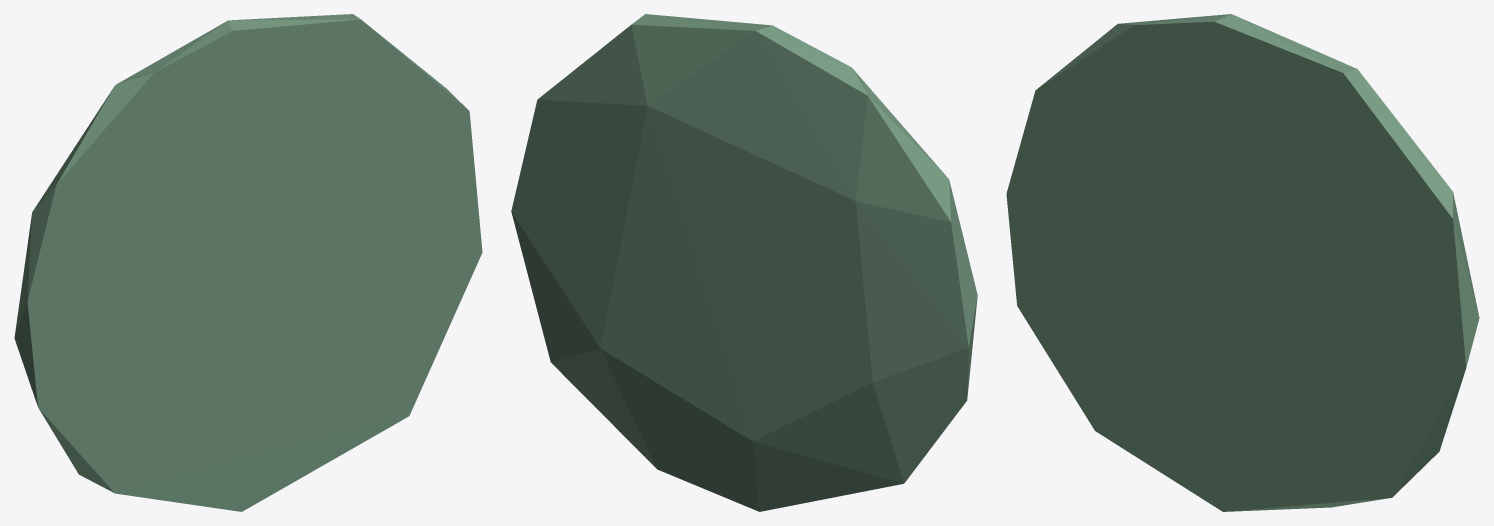
File: pie3_coacd.obj
The picture shows the model from 3 angles, left to right: view 1: azimuth 30°, elevation 25°; view 2: azimuth 150°, elevation 25°; view 3: azimuth 330°, elevation 25°; orthographic projection.
Visible parts, largest first — view 1: geometry_0; view 2: geometry_0; view 3: geometry_0.
Part boxes in pixels (x1,y1,x2,y2): geometry_0: (14, 14, 482, 511); geometry_0: (511, 14, 977, 511); geometry_0: (1006, 14, 1479, 511).
Size of the model in its own units: 0.1205 by 0.1214 by 0.0102.
